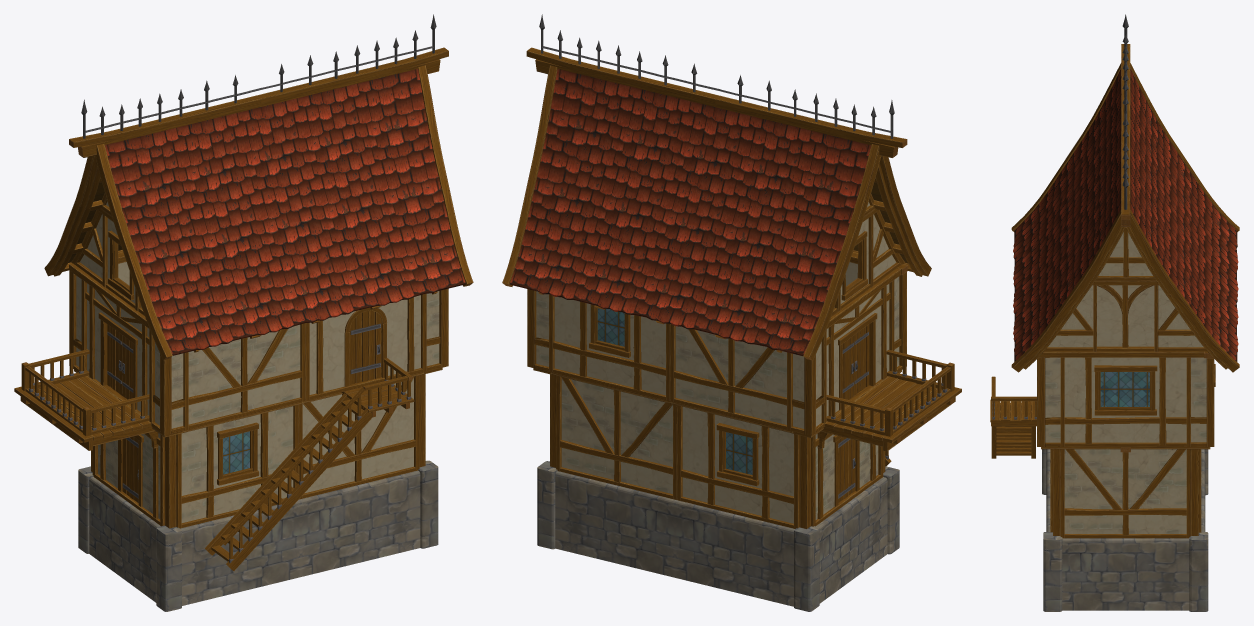
The model's file is house_2x1_tall_01_merged_(1).gltf.
3 views of the same model, side by side, from view 1: azimuth 30°, elevation 25°; view 2: azimuth 150°, elevation 25°; view 3: azimuth 270°, elevation 25° (orthographic). The views are drawn at different scales.
Visible parts, largest first — view 1: House_2x1_Tall_01_Merged (1); view 2: House_2x1_Tall_01_Merged (1); view 3: House_2x1_Tall_01_Merged (1).
Boxes of the visible parts, x1=… form: House_2x1_Tall_01_Merged (1): x1=14, y1=14, x2=473, y2=611; House_2x1_Tall_01_Merged (1): x1=502, y1=14, x2=961, y2=611; House_2x1_Tall_01_Merged (1): x1=990, y1=14, x2=1239, y2=611.
Size of the model in its own units: 16.42 by 19.32 by 9.58.
9 materials, 9 textured.
